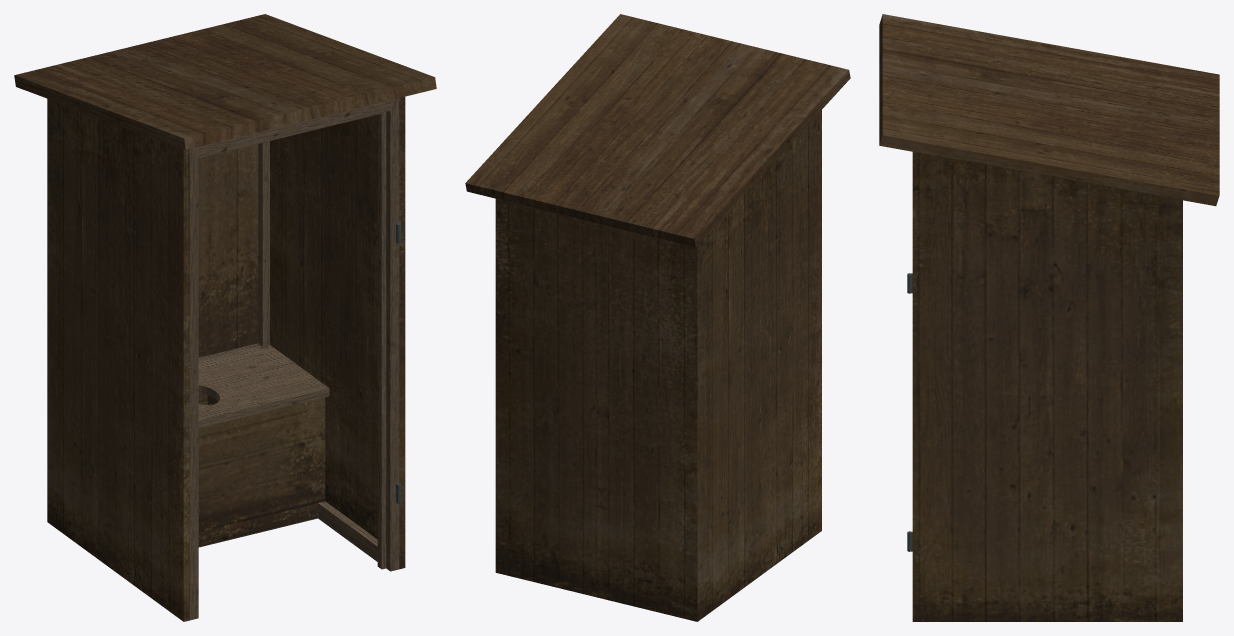
File: toilethouse.obj
3 renders of one model, left to right at view 1: azimuth 30°, elevation 25°; view 2: azimuth 150°, elevation 25°; view 3: azimuth 270°, elevation 25°, orthographic. The views are drawn at different scales.
Parts seen in each view (by area): view 1: toilethousemesh; view 2: toilethousemesh; view 3: toilethousemesh.
Boxes of the visible parts, x1=… form: toilethousemesh: x1=14, y1=14, x2=436, y2=621; toilethousemesh: x1=465, y1=14, x2=850, y2=621; toilethousemesh: x1=879, y1=14, x2=1219, y2=621.
Size of the model in its own units: 1.7 by 3.22 by 2.01.
1 material, 1 textured.
